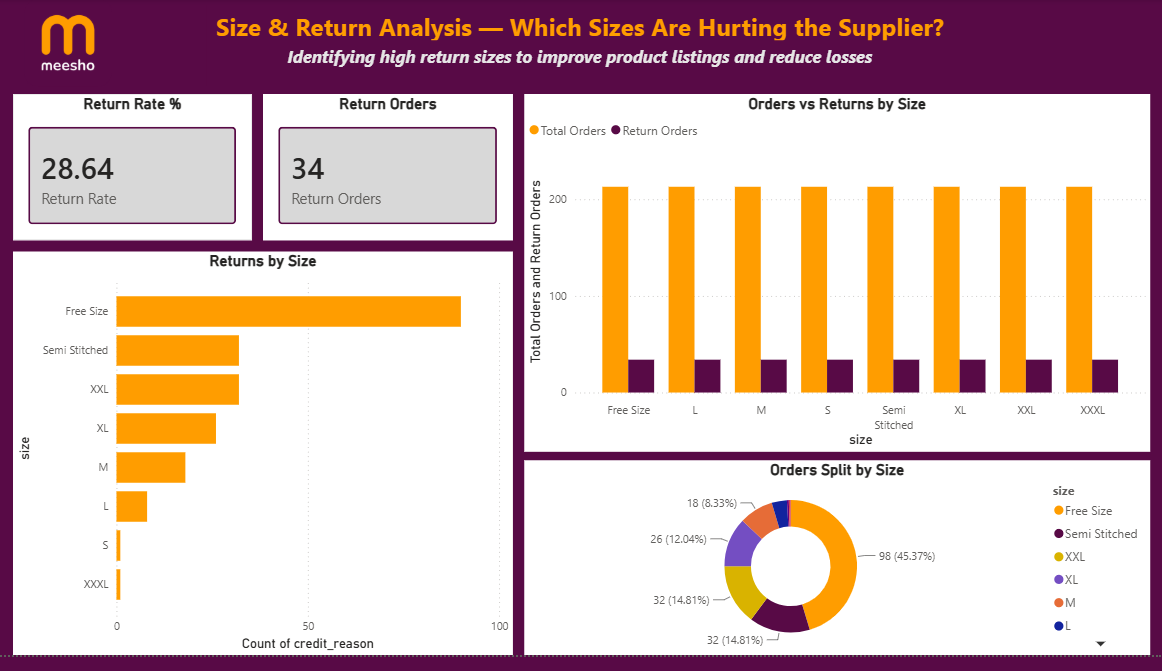

Layout of this report page (visuals, bound fields, positions):
{"tool":"powerbi","page":{"name":"Size & Return Analysis","canvas":[1280,720],"ordinal":3},"visuals":[{"type":"image","box":[0,0,109.8,89.2],"z":0},{"type":"textbox","box":[229.2,6.9,819.2,48],"z":1000},{"type":"textbox","box":[308.7,54.9,661.4,49.4],"z":2000},{"type":"cardVisual","title":"Return Orders","fields":{"Data":["orders.Return Orders"]},"box":[290.9,104.3,274.4,160.5],"z":3000},{"type":"cardVisual","title":"Return Rate %","fields":{"Data":["orders.Return Rate"]},"box":[16.5,104.3,262.1,160.5],"z":4000},{"type":"clusteredBarChart","title":" Returns by Size","fields":{"Category":["order_items.size"],"Y":["CountNonNull(order_items.credit_reason)"]},"box":[16.5,277.2,548.9,443.2],"z":5000},{"type":"clusteredColumnChart","title":" Orders vs Returns by Size","fields":{"Category":["order_items.size"],"Y":["orders.Total Orders","orders.Return Orders"]},"box":[577.7,104.3,687.5,392.5],"z":6000},{"type":"donutChart","title":"Orders Split by Size","fields":{"Category":["order_items.size"],"Y":["Sum(order_items.quantity)","Sum(order_items.quantity)"]},"box":[577.7,506.3,687.5,214.1],"z":7000}]}

Visuals, with their boxes in screenshot pixels (x1, y1, x2, y2), scaled from the page's 1280x720 canvas onto the 1162x671 screenshot:
image: x1=0, y1=0, x2=100, y2=83
textbox: x1=208, y1=6, x2=952, y2=51
textbox: x1=280, y1=51, x2=881, y2=97
"Return Orders" cardVisual: x1=264, y1=97, x2=513, y2=247
"Return Rate %" cardVisual: x1=15, y1=97, x2=253, y2=247
" Returns by Size" clusteredBarChart: x1=15, y1=258, x2=513, y2=670
" Orders vs Returns by Size" clusteredColumnChart: x1=524, y1=97, x2=1149, y2=463
"Orders Split by Size" donutChart: x1=524, y1=472, x2=1149, y2=670
